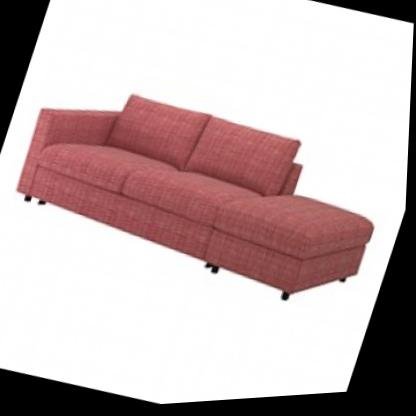Sofa: (0, 49, 407, 340)
